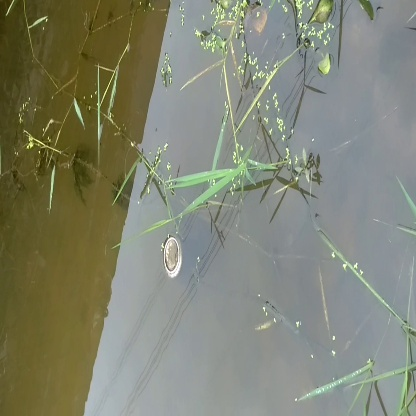bottle: (153, 226, 194, 283)
